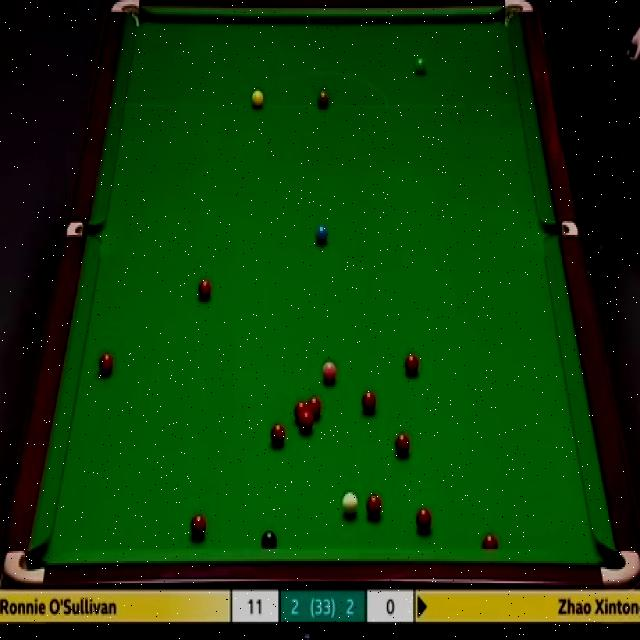black-ball: (261, 531, 277, 549)
blue-ball: (314, 222, 329, 246)
brown-ball: (316, 88, 330, 110)
green-ball: (412, 57, 428, 76)
pink-ball: (322, 357, 338, 384)
red-ball: (97, 349, 115, 377), (403, 352, 420, 381), (190, 513, 207, 539), (415, 507, 431, 534), (366, 493, 382, 520), (394, 433, 410, 459), (361, 390, 376, 416), (197, 279, 213, 303), (308, 396, 322, 422), (482, 529, 498, 550), (271, 423, 285, 446), (294, 401, 308, 421), (300, 414, 313, 434)
white-ball: (340, 487, 359, 520)
yellow-ball: (250, 88, 264, 108)
